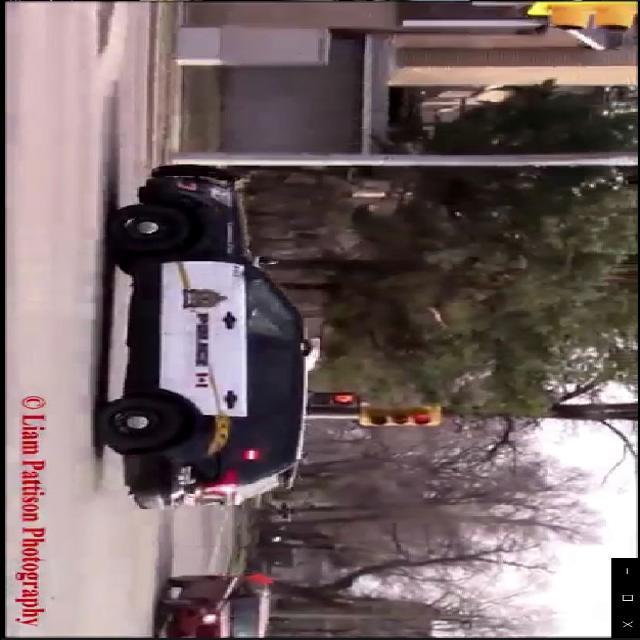emergency: (114, 165, 318, 511)
